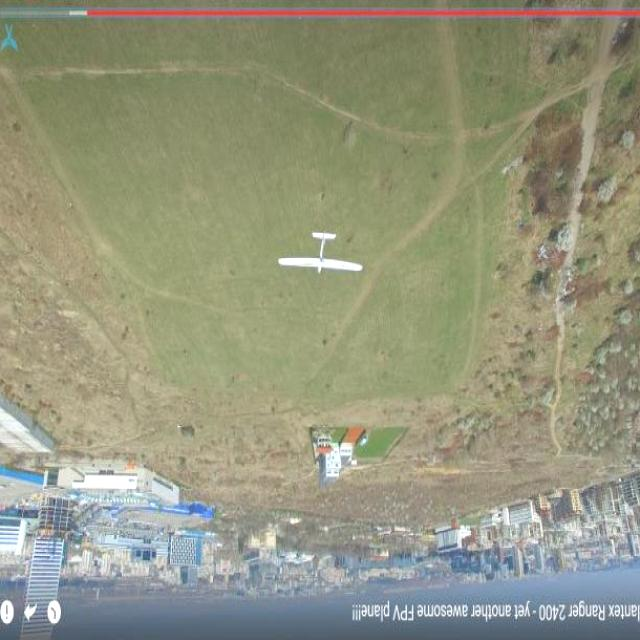plane: (278, 231, 365, 276)
